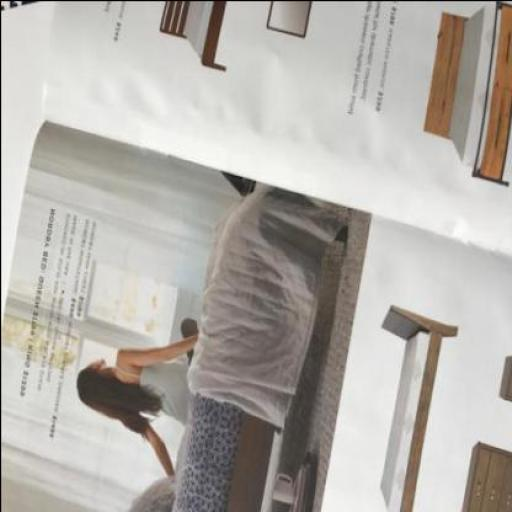paper: (1, 119, 511, 511), (39, 1, 511, 254)
